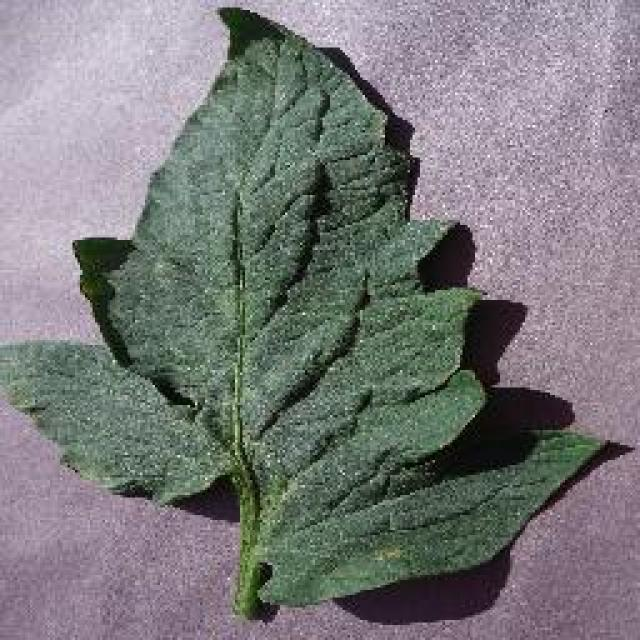Tomato Septoria spot leaf: (0, 6, 608, 606)
